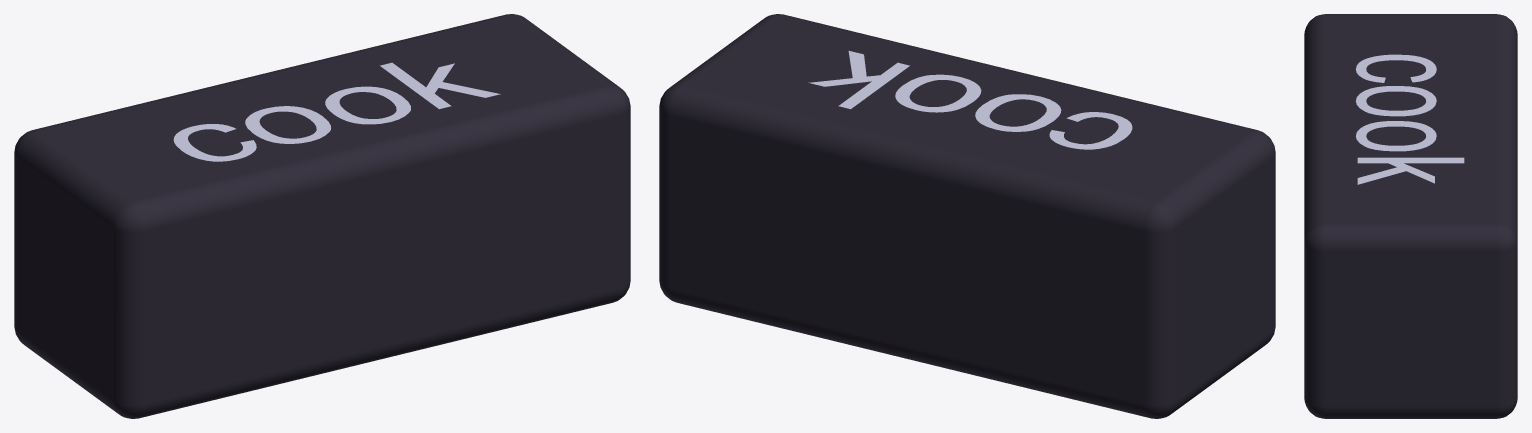
File: cook.glb
3 renders of one model, left to right at view 1: azimuth 30°, elevation 25°; view 2: azimuth 150°, elevation 25°; view 3: azimuth 270°, elevation 25°, orthographic. The views are drawn at different scales.
Visible parts, largest first — view 1: Cut, Extrude; view 2: Cut, Extrude; view 3: Cut, Extrude.
Part boxes in pixels (<box>): Cut: <box>14,14,630,418</box>; Extrude: <box>173,62,500,161</box>; Cut: <box>659,14,1275,418</box>; Extrude: <box>808,51,1132,149</box>; Cut: <box>1304,14,1517,418</box>; Extrude: <box>1356,54,1464,184</box>.
Size of the model in its own units: 5 by 2 by 2.
